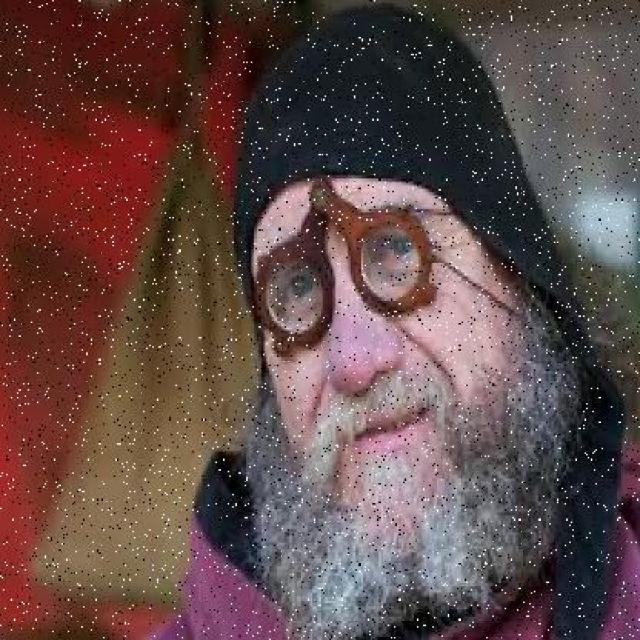glasses: (252, 201, 434, 337)
